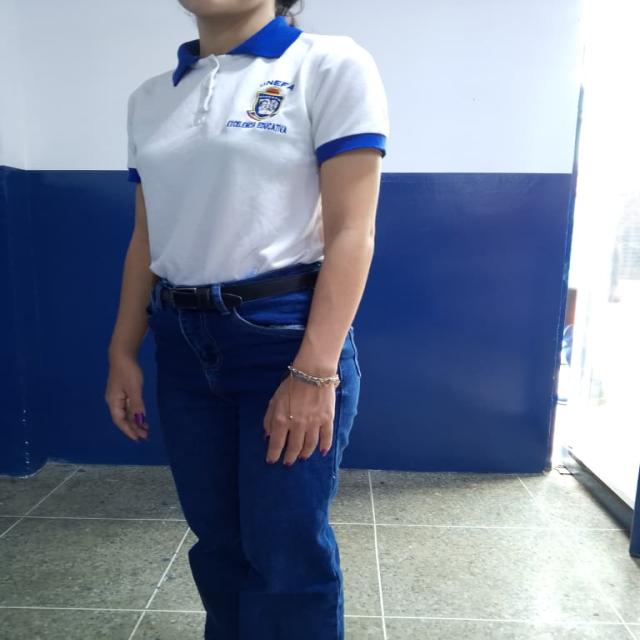pantalon_oscuro: (152, 284, 362, 640)
uniforme_superior: (125, 15, 390, 286)
